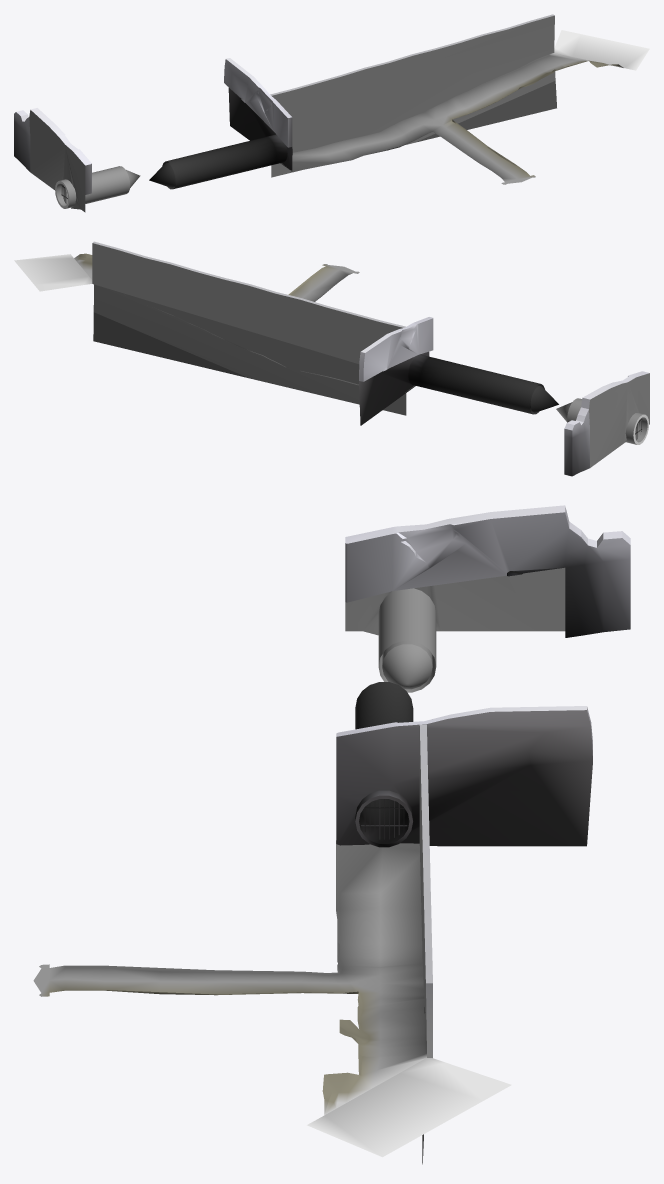
Rendered from alleywaybxe.FBX.
The picture shows the model from 3 angles, top to bottom: view 1: azimuth 30°, elevation 25°; view 2: azimuth 150°, elevation 25°; view 3: azimuth 270°, elevation 25°; orthographic projection. The views are drawn at different scales.
Visible parts, largest first — view 1: alleywaybxe; view 2: alleywaybxe; view 3: alleywaybxe.
Part boxes in pixels (x1,y1,x2,y2): alleywaybxe: (14, 14, 649, 212); alleywaybxe: (14, 241, 649, 476); alleywaybxe: (33, 505, 630, 1164).
Bounding box in the file's own units: 69.99 × 10.63 × 31.12.
